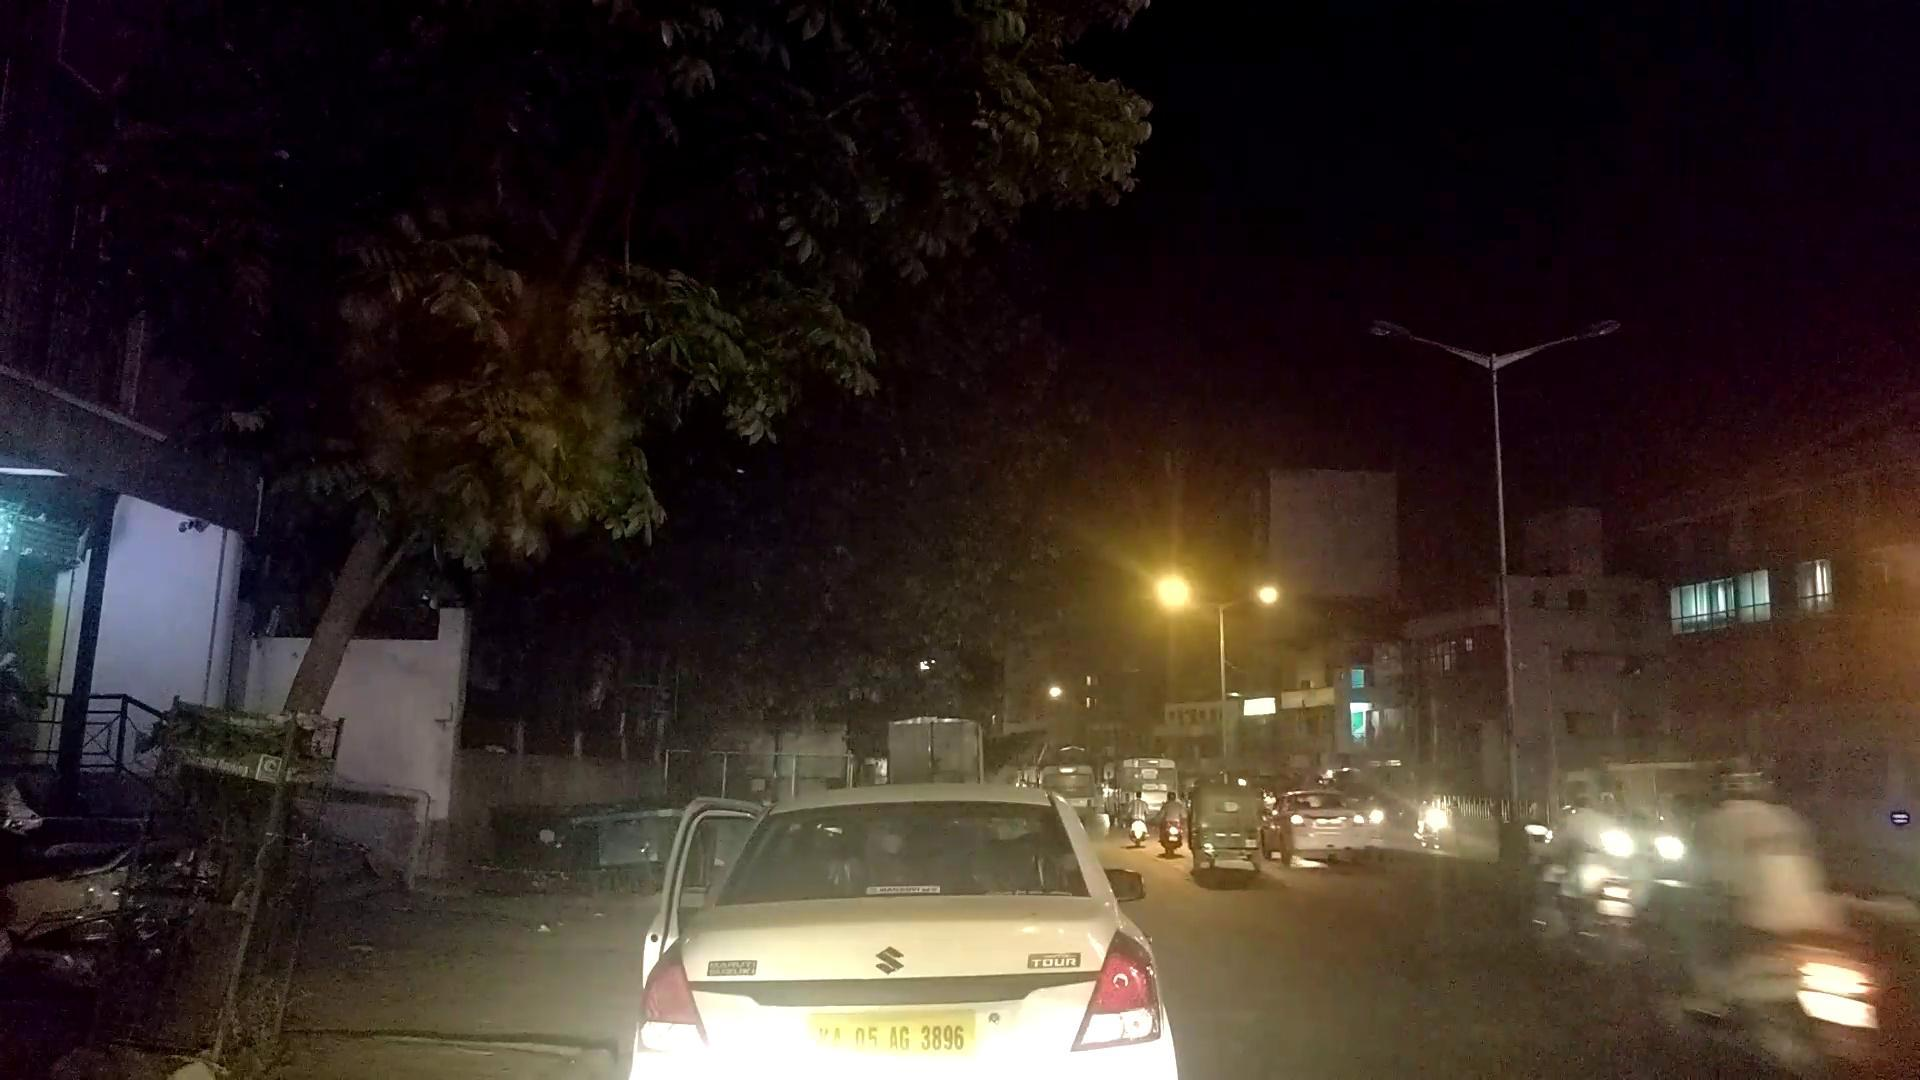on: (870, 291, 1822, 1004)
